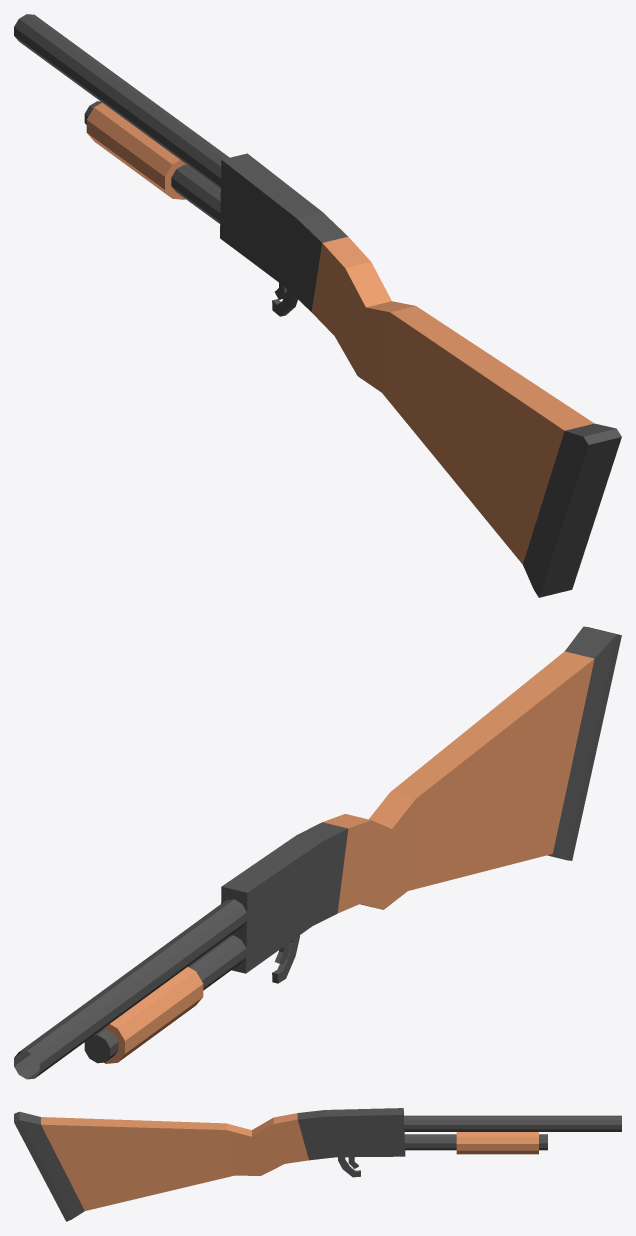
Rendered from Shotgun.glb.
3 renders of one model, top to bottom at view 1: azimuth 30°, elevation 25°; view 2: azimuth 150°, elevation 25°; view 3: azimuth 270°, elevation 25°, orthographic. The views are drawn at different scales.
Parts seen in each view (by area): view 1: Shotgun; view 2: Shotgun; view 3: Shotgun.
Part boxes in pixels (bbox=[...]): Shotgun: bbox=[14, 14, 621, 597]; Shotgun: bbox=[14, 626, 621, 1079]; Shotgun: bbox=[14, 1108, 621, 1221].
Size of the model in its own units: 0.3271 by 1.65 by 8.55.
